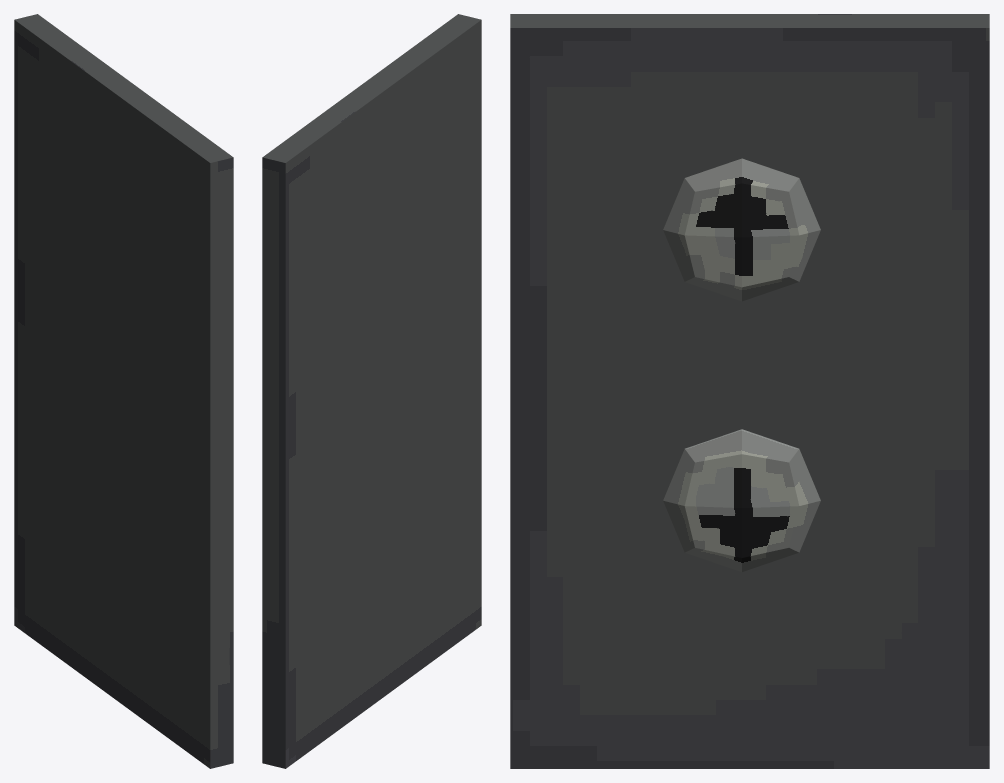
The model's file is Botton_Elevator.fbx.
3 views of the same model, side by side, from view 1: azimuth 30°, elevation 25°; view 2: azimuth 150°, elevation 25°; view 3: azimuth 270°, elevation 25° (orthographic). The views are drawn at different scales.
Visible parts, largest first — view 1: Cube.004; view 2: Cube.004; view 3: Cube.004.
Part boxes in pixels (<box>): Cube.004: <box>14,14,233,768</box>; Cube.004: <box>262,14,481,768</box>; Cube.004: <box>510,14,989,768</box>.
Bounding box in the file's own units: 4.45 × 71.01 × 41.63.
Materials: 1 (1 with a texture image).
